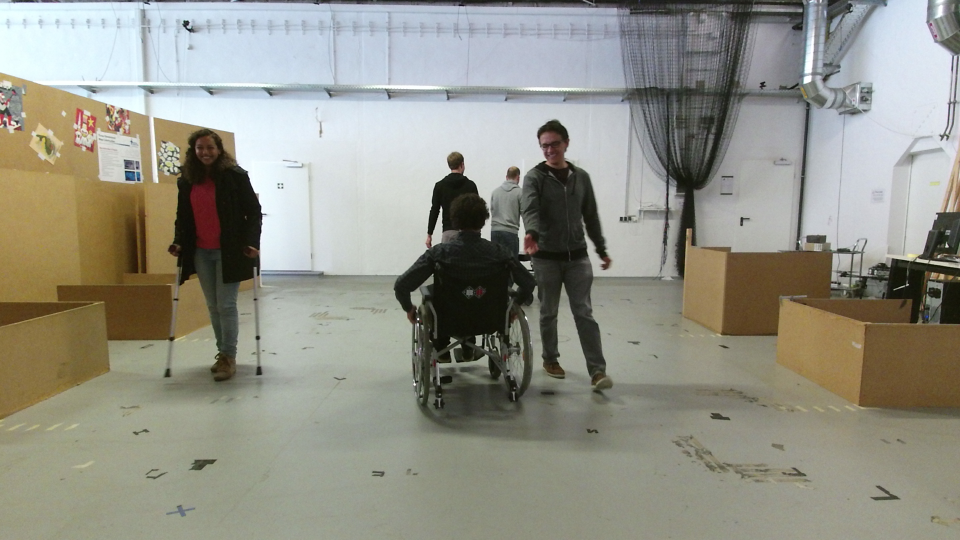crutches: (172, 124, 280, 378)
wheelchair: (388, 185, 538, 418)
